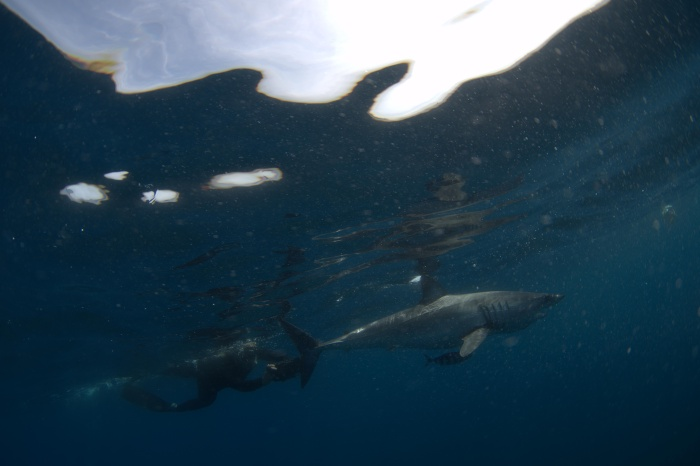Mako: (258, 265, 575, 397)
